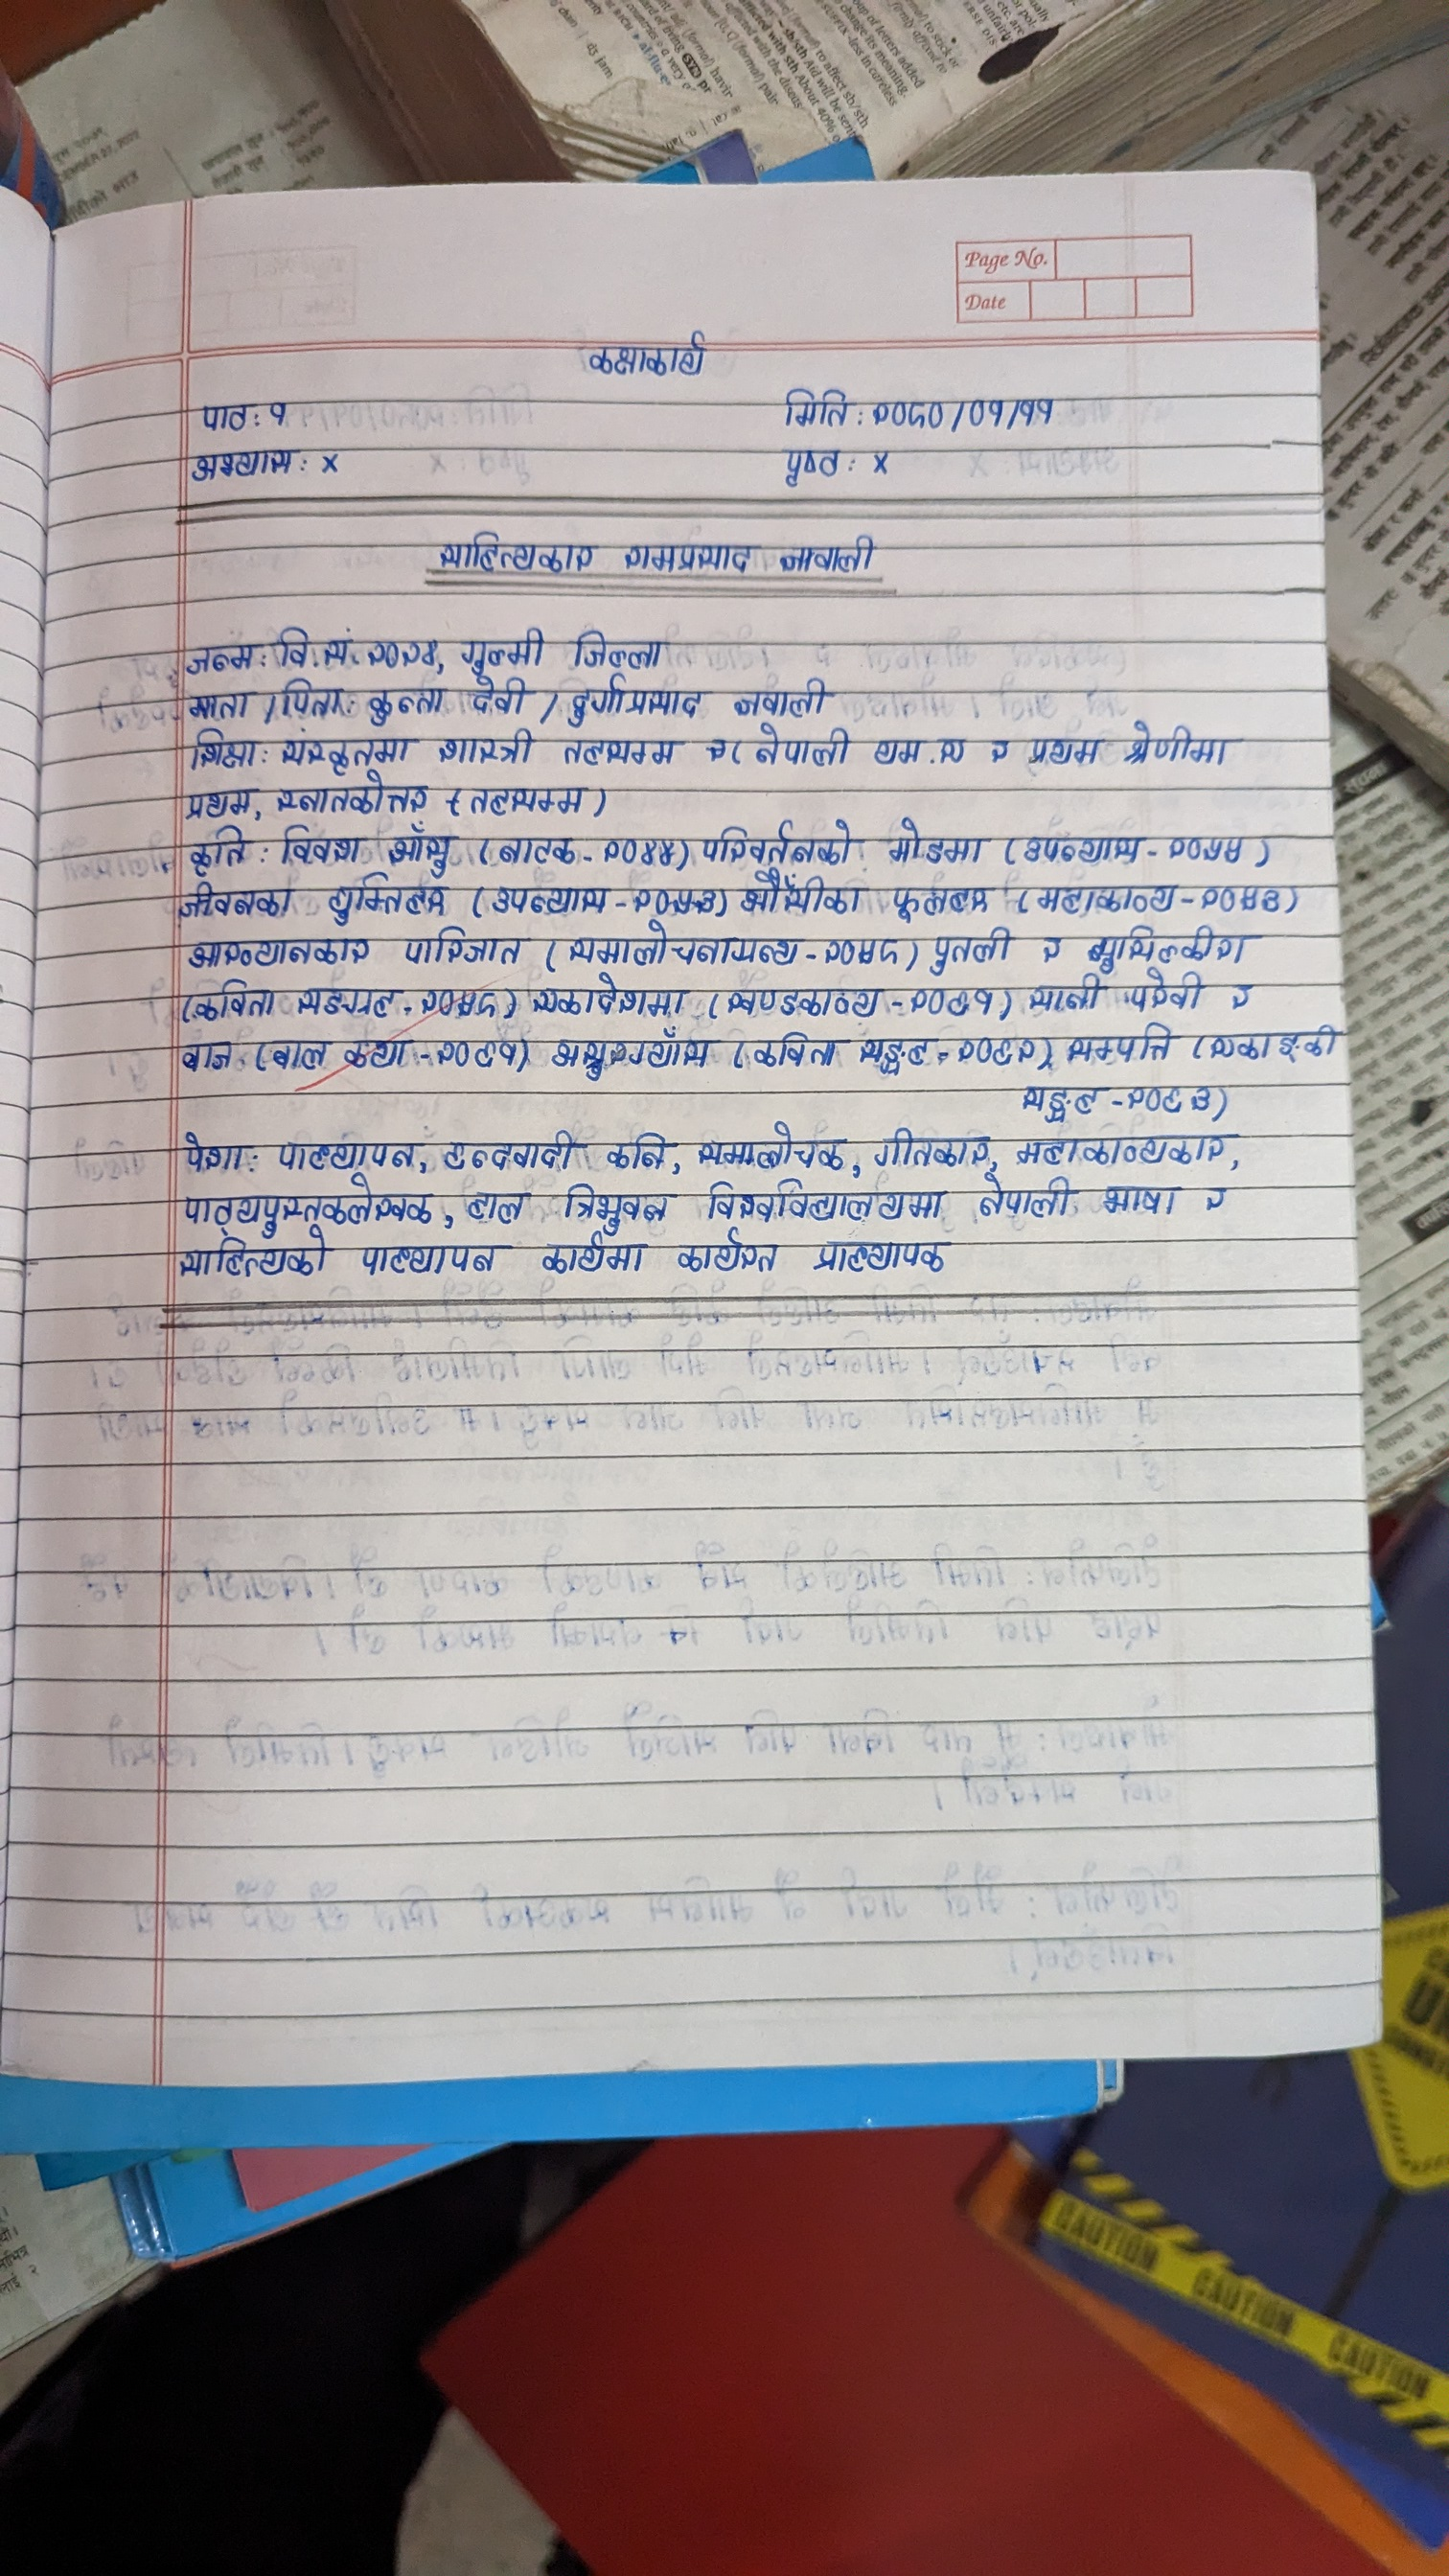text: (173, 1178, 432, 1228), (701, 1178, 950, 1226), (566, 924, 800, 971), (423, 520, 598, 579), (547, 1026, 715, 1085), (573, 318, 718, 382), (688, 1120, 847, 1175), (175, 1233, 336, 1283), (697, 814, 853, 863), (180, 931, 377, 970), (1012, 1131, 1228, 1166), (1083, 924, 1251, 968), (566, 676, 706, 727), (736, 865, 865, 920), (533, 975, 692, 1019), (803, 1233, 962, 1277), (354, 1235, 508, 1279), (616, 531, 755, 579), (435, 1125, 580, 1171), (274, 775, 428, 816), (326, 874, 451, 924), (276, 727, 410, 773), (775, 524, 883, 580), (722, 982, 885, 1019), (1207, 1021, 1332, 1069), (1060, 1021, 1177, 1070), (280, 1132, 416, 1175), (170, 881, 304, 922), (1016, 826, 1143, 869), (1033, 879, 1177, 916), (1122, 720, 1228, 770), (879, 819, 987, 867), (536, 1233, 648, 1279), (870, 1127, 991, 1169), (556, 1182, 665, 1228), (970, 1177, 1077, 1223), (403, 927, 522, 968), (729, 674, 833, 720), (674, 1230, 778, 1276), (465, 782, 594, 819), (922, 925, 1016, 975), (770, 380, 856, 432), (886, 879, 991, 922), (435, 729, 538, 771), (432, 1028, 520, 1076), (559, 628, 672, 665), (492, 881, 610, 916), (745, 1030, 837, 1074), (458, 623, 543, 671), (559, 734, 679, 768), (754, 724, 844, 768), (292, 984, 396, 1021), (186, 448, 301, 481), (602, 1123, 674, 1177), (191, 977, 278, 1021), (1016, 1079, 1099, 1123), (1095, 1182, 1185, 1223), (363, 683, 446, 725), (179, 630, 255, 676), (175, 1131, 251, 1177), (418, 982, 499, 1024), (188, 729, 262, 775), (280, 824, 359, 867), (1131, 970, 1201, 1017), (1120, 1079, 1215, 1115), (382, 823, 451, 870), (1159, 830, 1247, 867), (856, 1033, 931, 1077), (821, 931, 904, 970), (182, 824, 249, 872), (1028, 975, 1106, 1016), (626, 883, 720, 916), (865, 393, 948, 430), (778, 439, 842, 485), (495, 833, 577, 869), (1198, 883, 1288, 915), (904, 984, 994, 1016), (954, 1033, 1039, 1067), (1028, 729, 1097, 770), (364, 633, 442, 669), (600, 833, 678, 869), (462, 1185, 525, 1226), (465, 674, 525, 717), (276, 679, 340, 718), (271, 1033, 329, 1076), (343, 1037, 407, 1074), (186, 787, 257, 819), (177, 1039, 239, 1074), (1012, 387, 1060, 432), (196, 398, 251, 435), (271, 619, 310, 671), (180, 692, 255, 717), (1194, 1178, 1237, 1221), (320, 625, 352, 676), (869, 734, 920, 766), (964, 389, 1003, 428), (931, 731, 964, 768), (1226, 980, 1254, 1016), (1040, 927, 1063, 968), (269, 393, 290, 428), (989, 736, 1014, 766)
